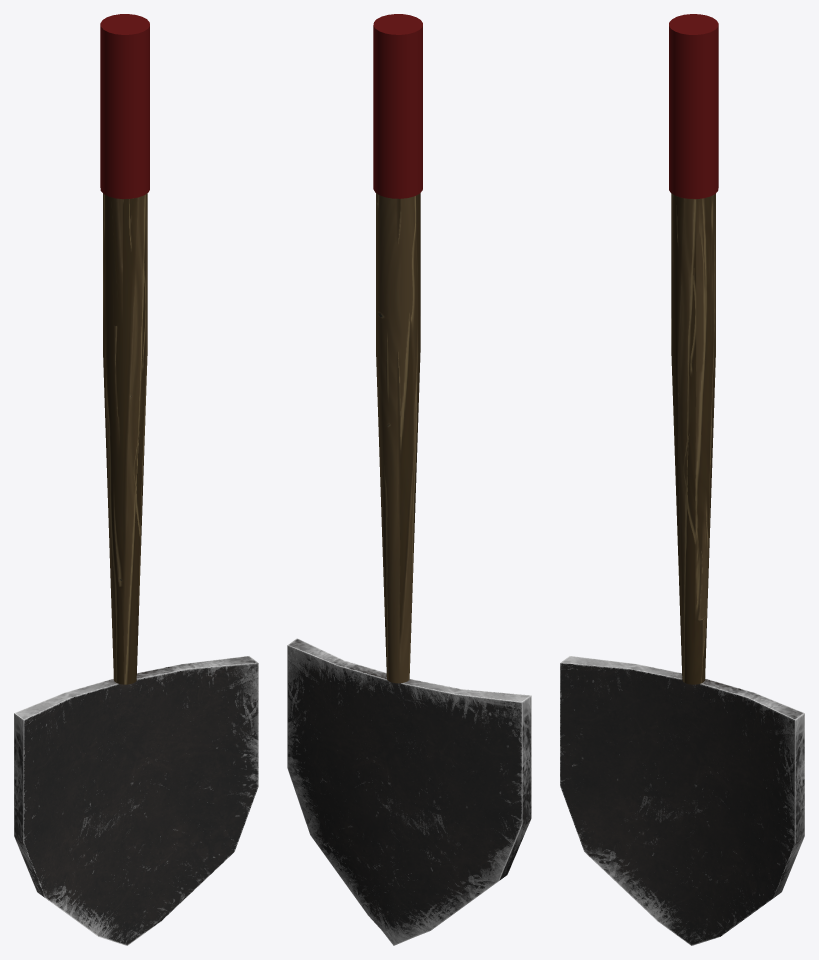
File: Shovel.fbx
3 views of the same model, side by side, from view 1: azimuth 30°, elevation 25°; view 2: azimuth 150°, elevation 25°; view 3: azimuth 330°, elevation 25° (orthographic).
Visible parts, largest first — view 1: Shovel; view 2: Shovel; view 3: Shovel.
Part boxes in pixels (left/top/right/bottom): Shovel: left=14, top=14, right=258, bottom=945; Shovel: left=287, top=14, right=531, bottom=945; Shovel: left=560, top=14, right=804, bottom=945.
Size of the model in its own units: 1 by 3.74 by 0.2105.
